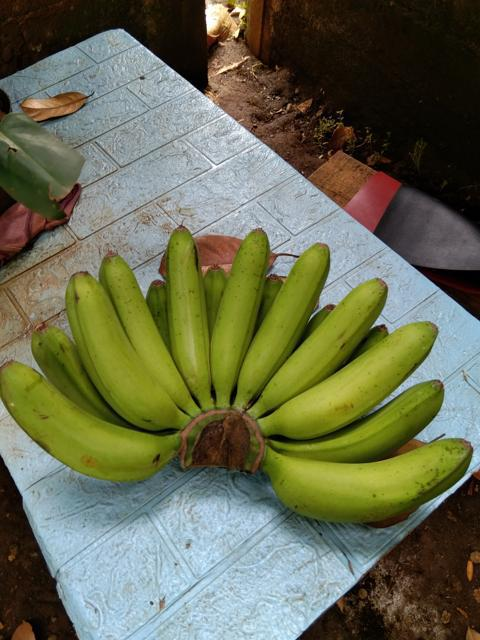freshunripe: (258, 311, 439, 445), (250, 431, 477, 530), (66, 265, 191, 435), (259, 271, 396, 402), (234, 238, 330, 402), (308, 375, 457, 470), (101, 245, 184, 396), (201, 221, 270, 391)
unripe: (0, 360, 160, 489), (154, 220, 215, 383), (25, 321, 104, 415)
